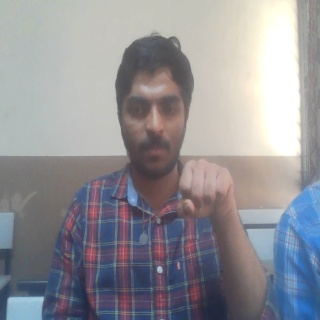Yes: (176, 159, 235, 232)
